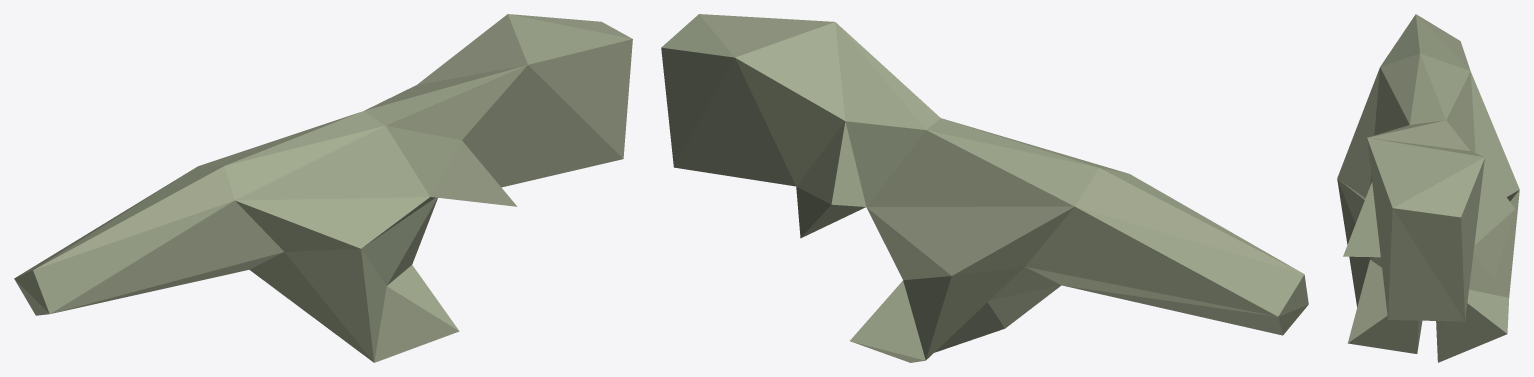
The picture shows the model from 3 angles, left to right: view 1: azimuth 30°, elevation 25°; view 2: azimuth 150°, elevation 25°; view 3: azimuth 270°, elevation 25°; orthographic projection. The views are drawn at different scales.
Parts seen in each view (by area): view 1: part0; view 2: part0; view 3: part0.
Part boxes in pixels (bbox=[...]): part0: bbox=[14, 14, 632, 362]; part0: bbox=[661, 14, 1308, 362]; part0: bbox=[1337, 14, 1519, 362].
Bounding box in the file's own units: 7.86 × 3.48 × 2.07.
